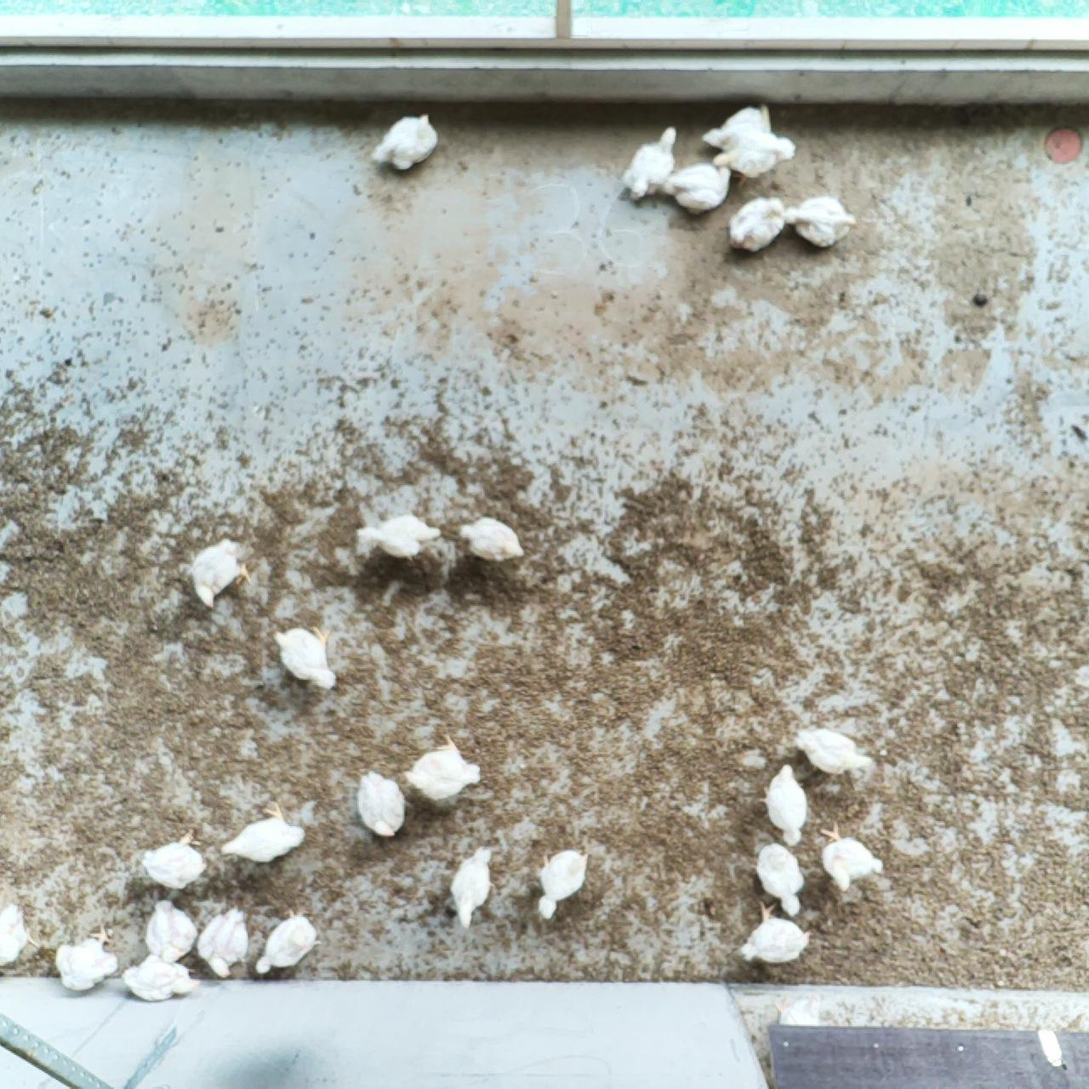chicken: (218, 798, 308, 865), (267, 618, 342, 698), (402, 729, 483, 802), (818, 817, 891, 897), (739, 896, 815, 969), (251, 905, 327, 977), (755, 760, 815, 849), (353, 510, 445, 568), (185, 534, 255, 609), (51, 921, 120, 993), (622, 124, 682, 206), (448, 840, 501, 930), (533, 845, 592, 925), (368, 111, 442, 174), (751, 839, 809, 919), (140, 826, 209, 893), (783, 193, 859, 252), (792, 724, 875, 778), (197, 903, 252, 980), (121, 952, 202, 1003), (457, 512, 528, 566), (354, 768, 406, 841), (144, 896, 198, 964), (727, 195, 786, 257), (0, 900, 41, 971)
